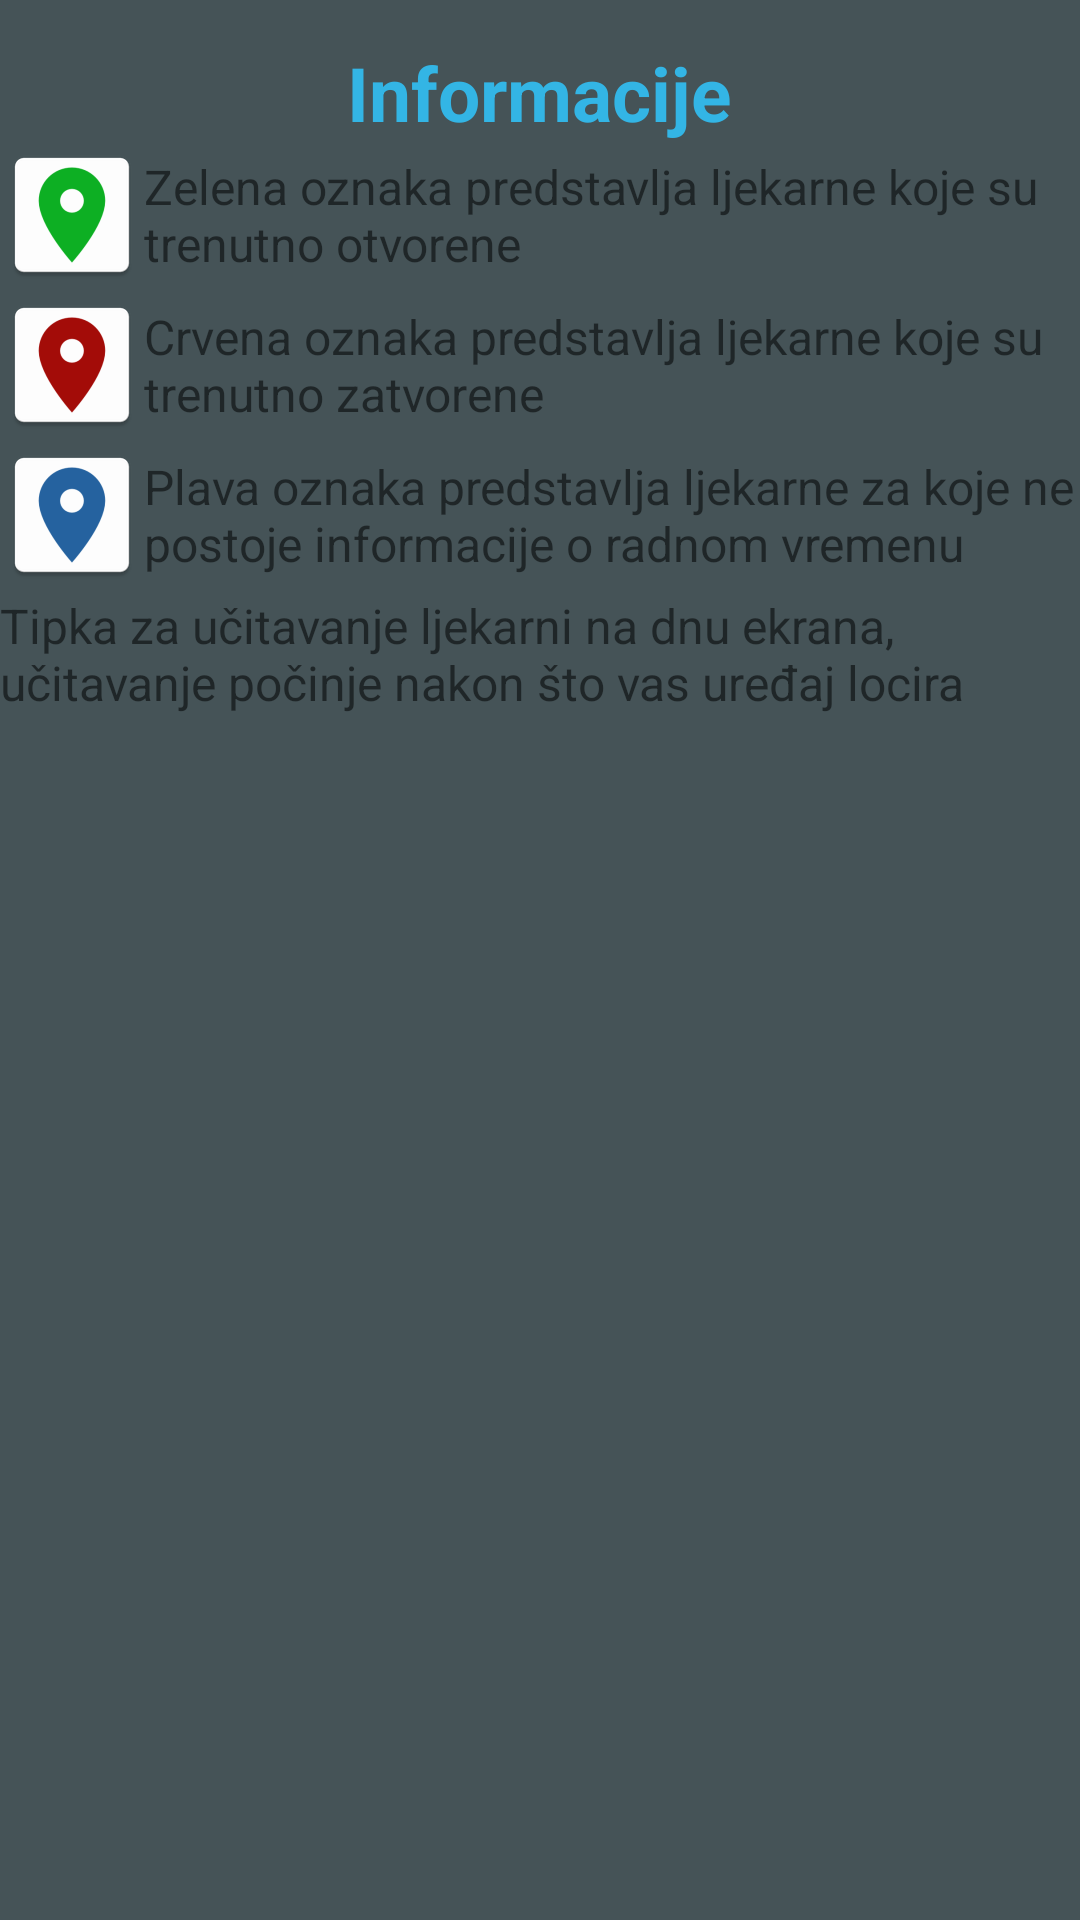

Point at icon controls on the screen. Image size 1080×1920, points as point (x, y).
marker: point (72, 215), point (72, 365), point (72, 515)
